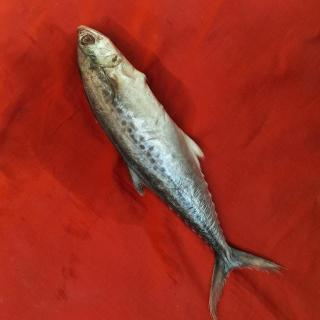Ikan: (67, 21, 293, 300)
